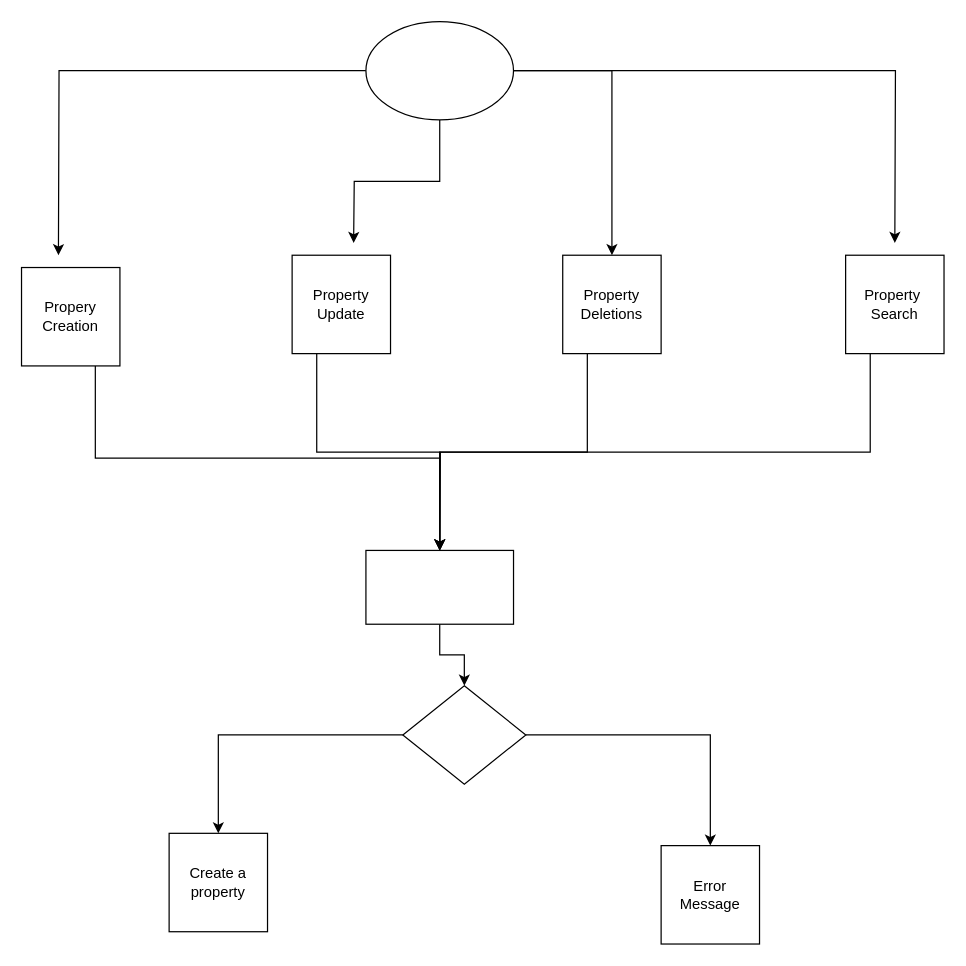
The diagram is 966 pixels wide and 966 high, and some of its shapes have lost their labels. Here are the shapes that lost their labels. From the top down, the box of each, then its label:
(365, 20, 514, 120): User Aunthenthicated as A host
(365, 549, 514, 624): Backend Validation
